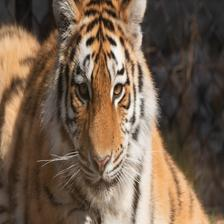tiger: (26, 0, 178, 220)
